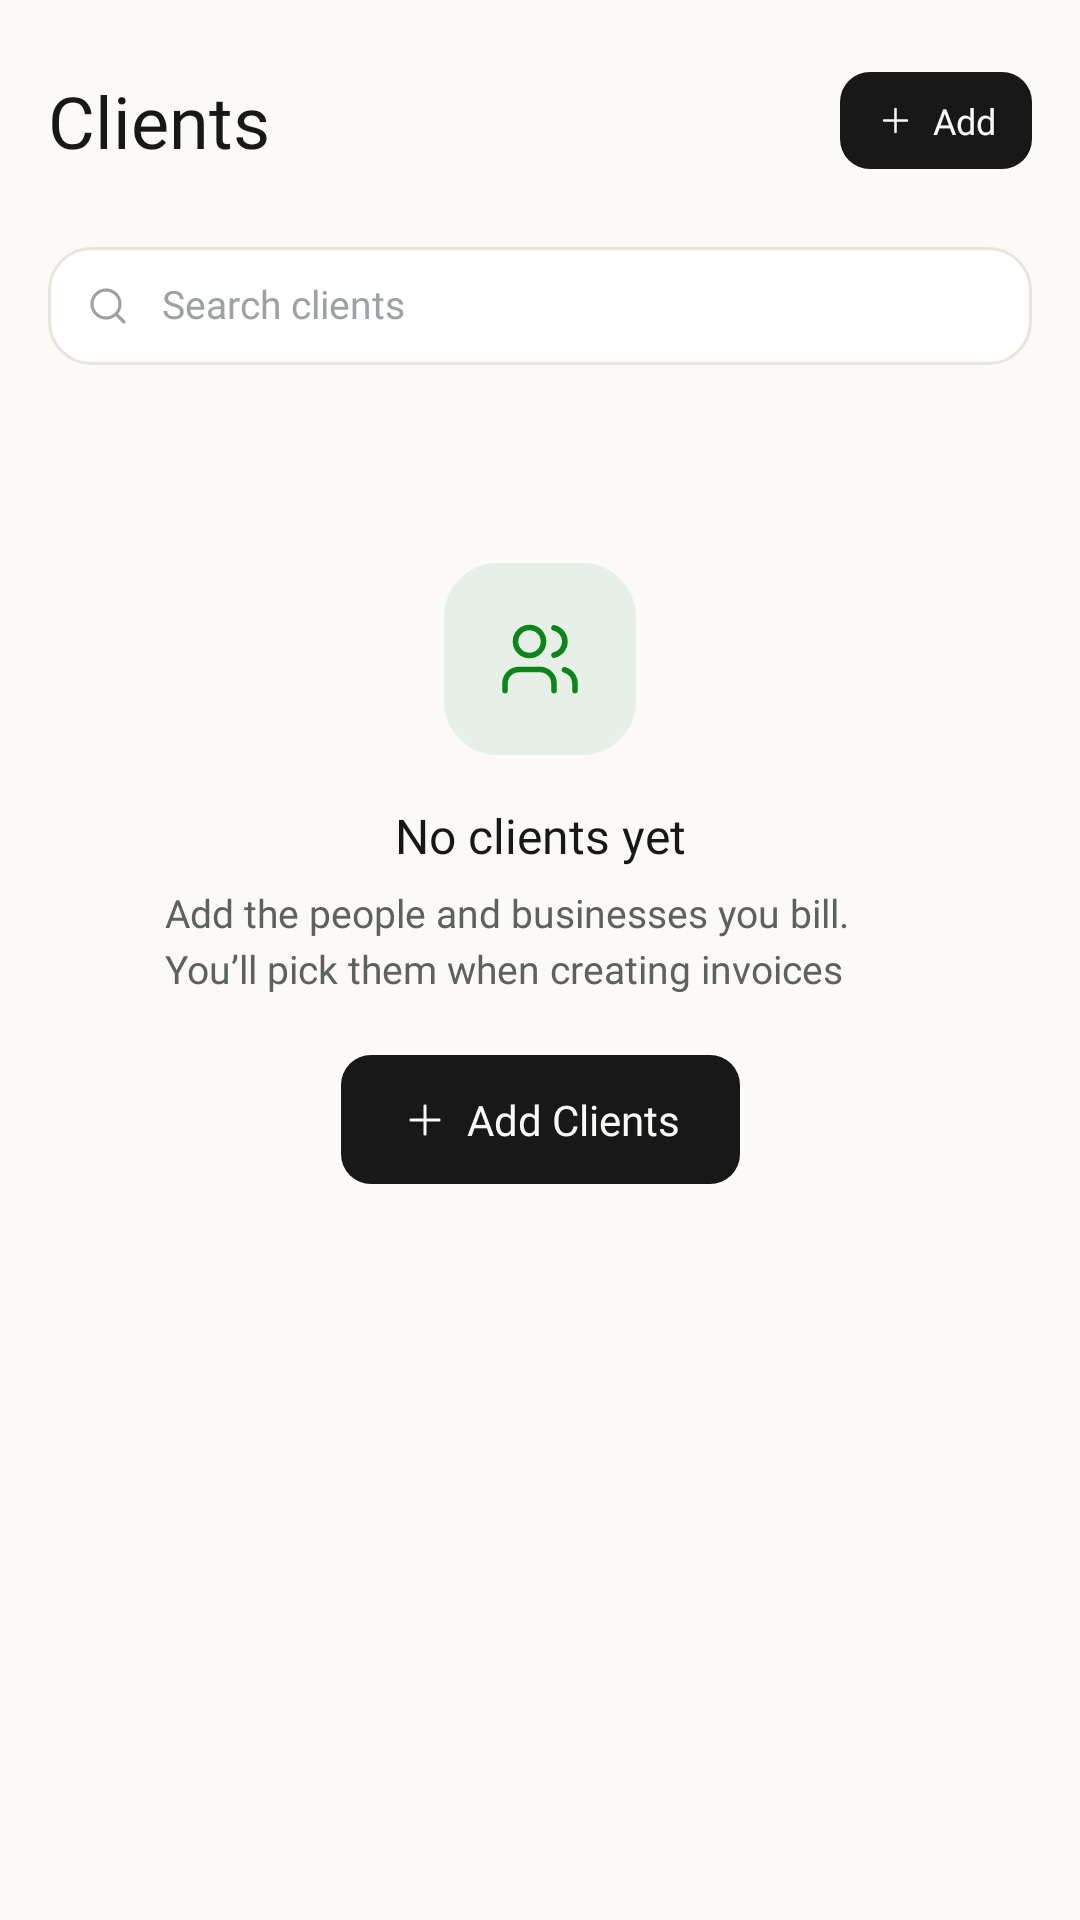

Screen size 1080×1920. Icon name, then its center in pixels as (x=x, y=y):
poeple: (x=540, y=659)
